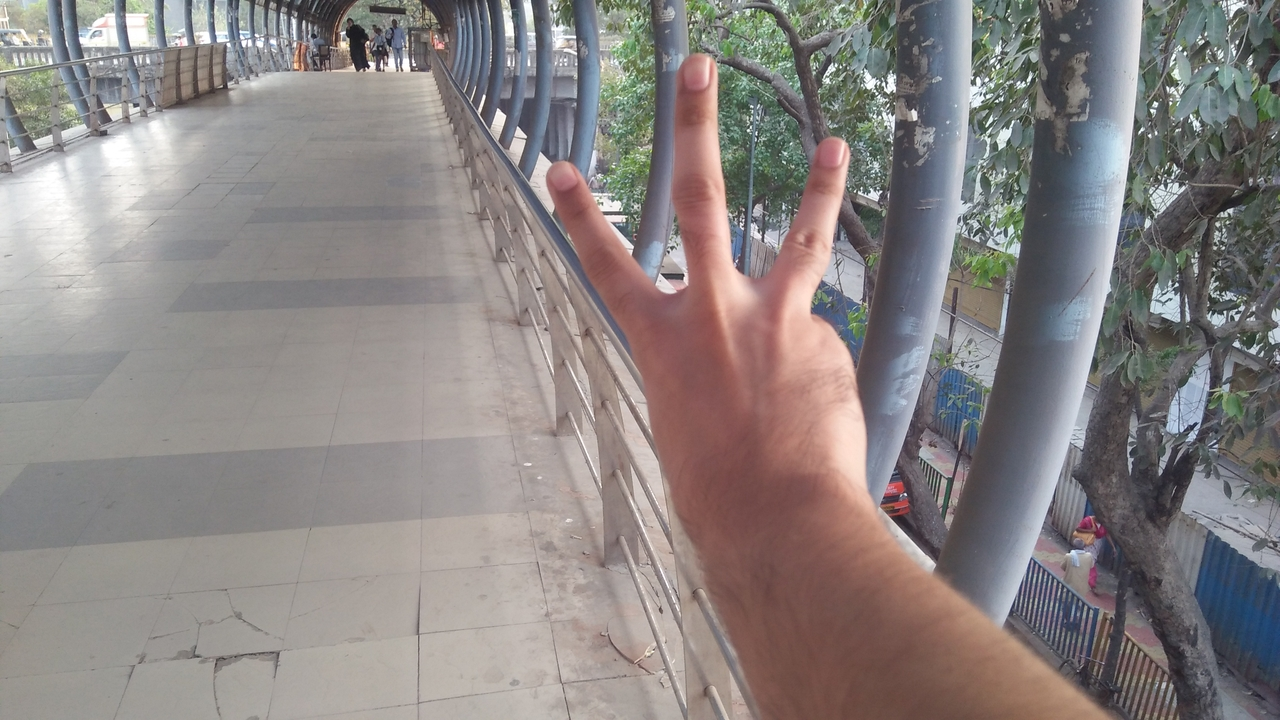fingertip: (542, 150, 592, 208), (672, 46, 722, 102), (808, 126, 858, 174)
